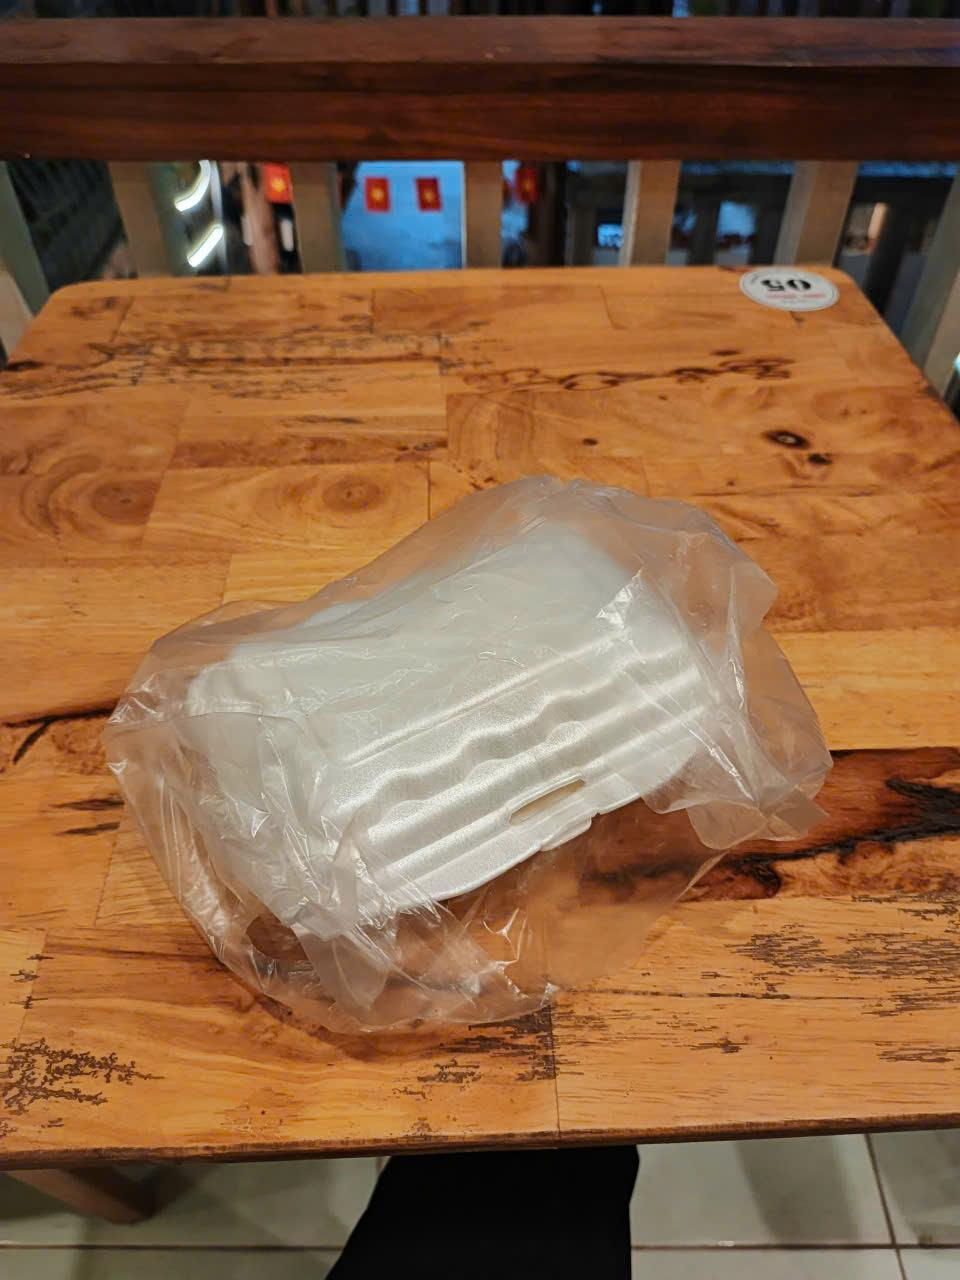Con lai: (115, 466, 840, 1041)
